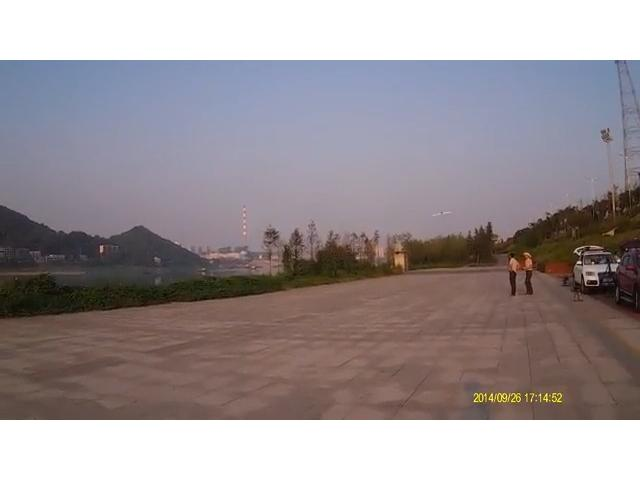Anti-Drone: (425, 203, 457, 223)
